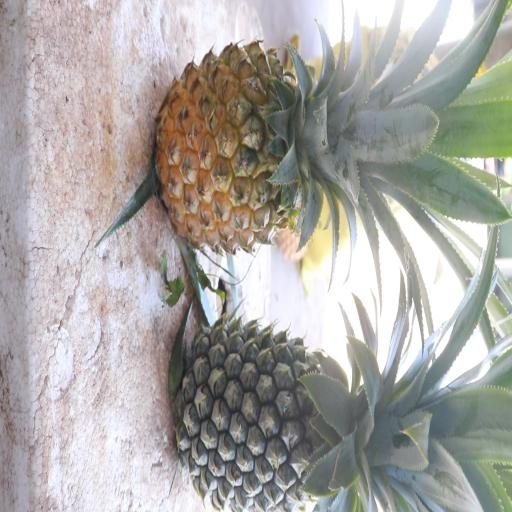Pineapple - v8 v1: (160, 26, 450, 259)
